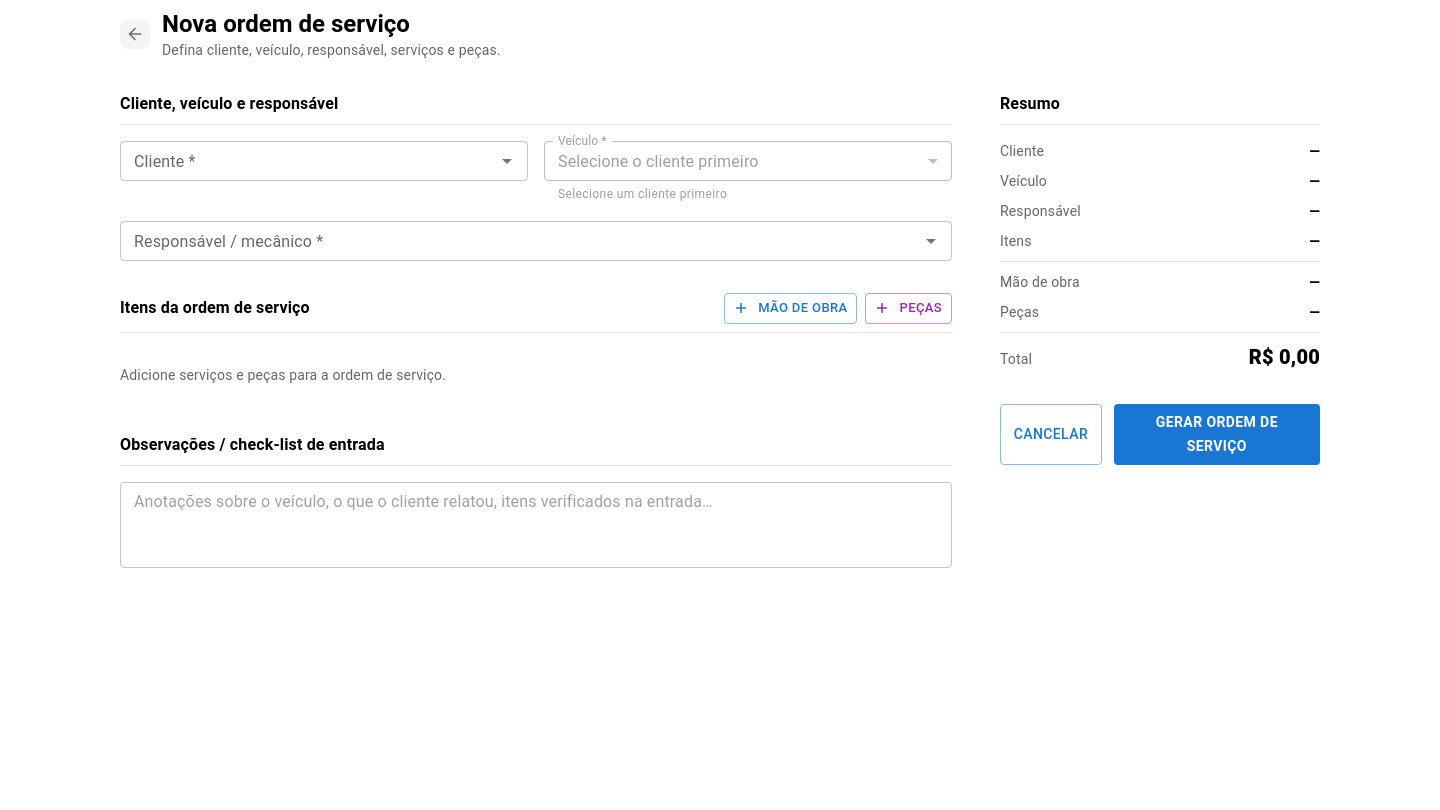
Test case: FormOrdemServico (tela inteira) › nova OS abre como página, com seções e resumo, e exige cliente, veículo e responsável
Expected: the heading "Nova ordem de serviço" is shown, [162,10,410,38]
Expected: the text "Itens da ordem de serviço" is shown, [120,296,310,320]
Click the button "Gerar ordem de serviço" at coordinates (1217, 434), box [1114,404,1320,465]
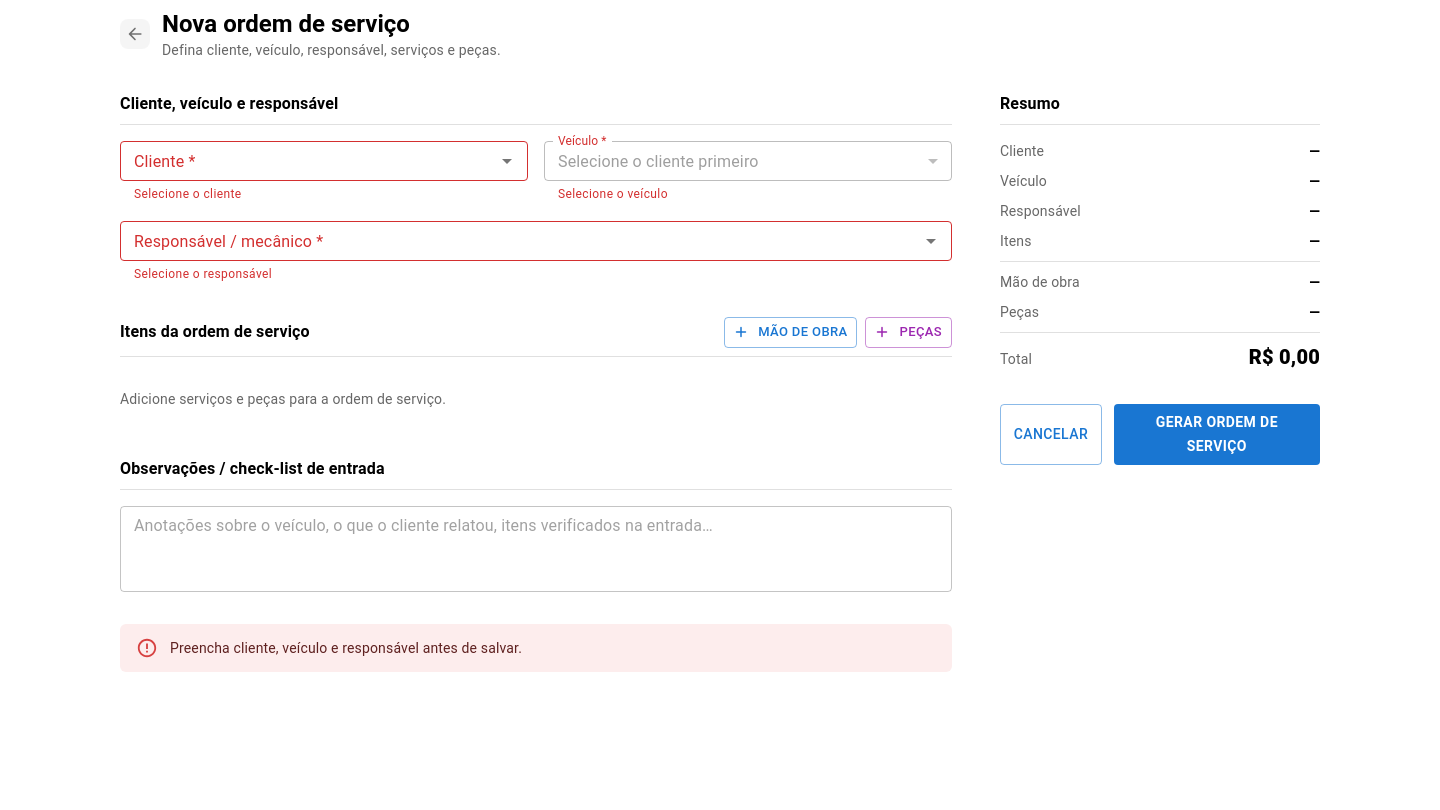
Expected: the text "Selecione o cliente" is shown, [134,187,242,201]
Expected: the text "Selecione o veículo" is shown, [558,187,668,201]
Expected: the text "Selecione o responsável" is shown, [134,267,272,281]
